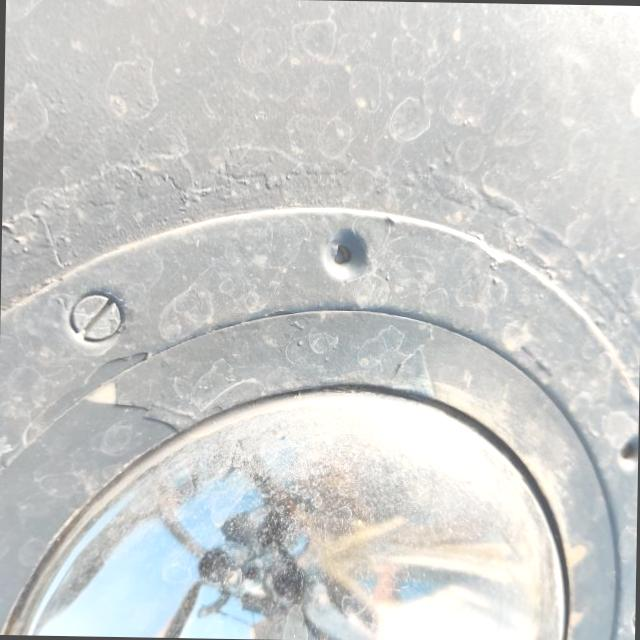Missing Fastener: (322, 226, 368, 279), (618, 426, 638, 476)
